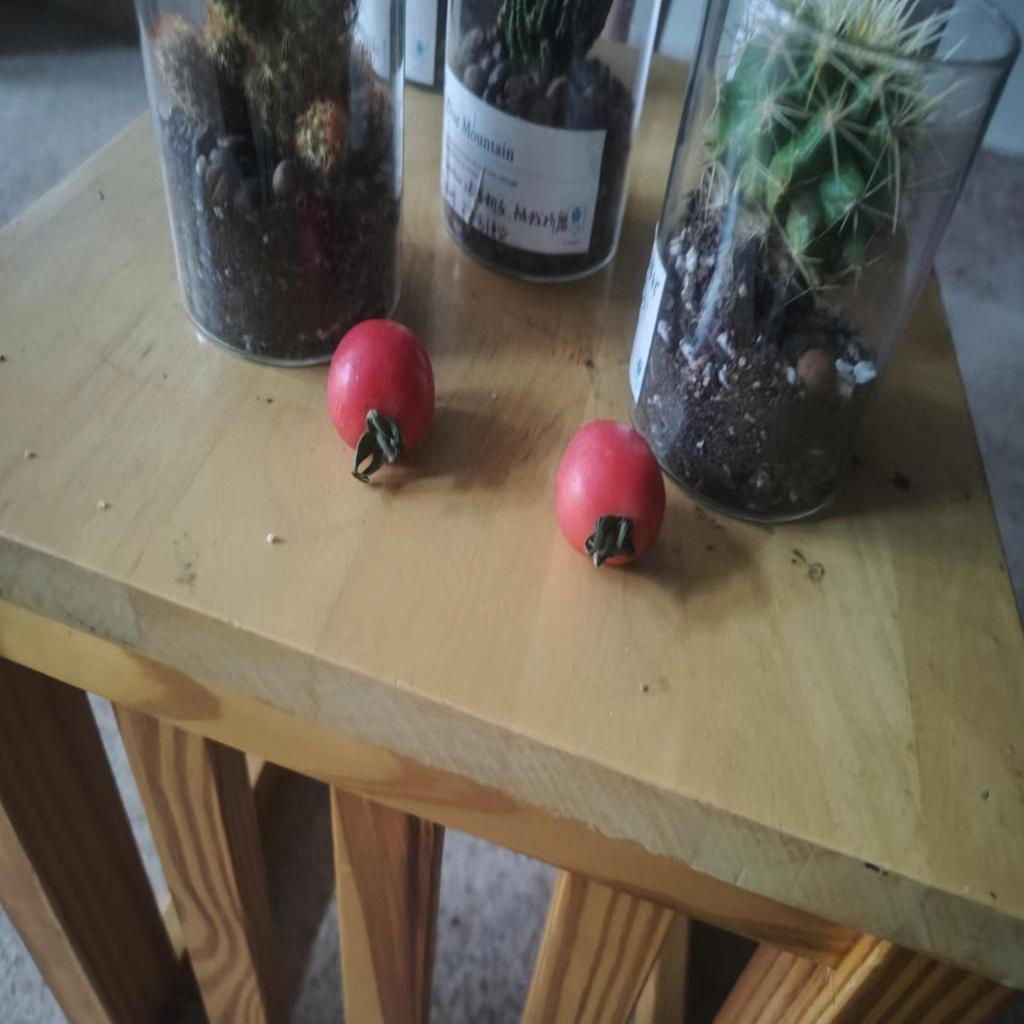tomato: (552, 414, 677, 575), (322, 322, 442, 470)
